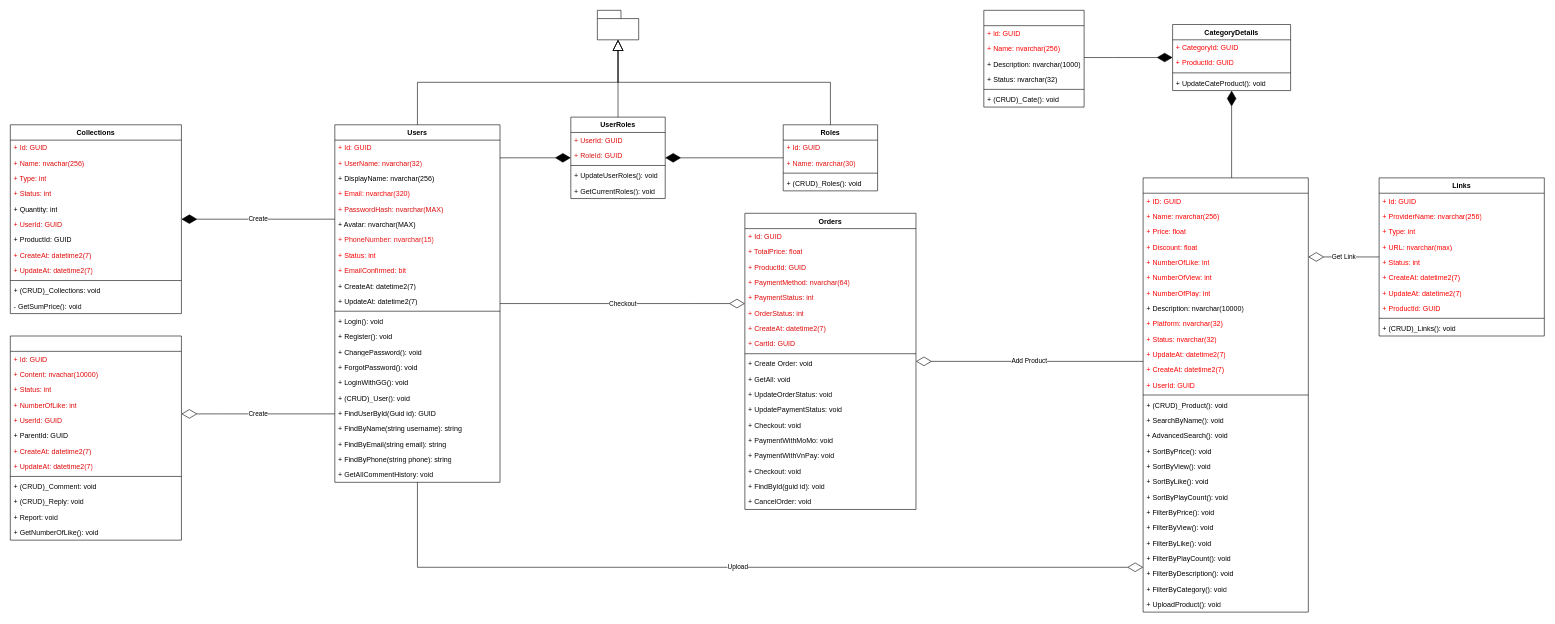
Image size: 1555x624. Some labels were removed from this diagram. The box of each missing label's shape, as (x1, y1, x2, y2) in pixels:
Categories: (983, 10, 1084, 107)
Comments: (10, 335, 181, 540)
Identity: (597, 10, 639, 40)
Products: (1143, 177, 1308, 612)
